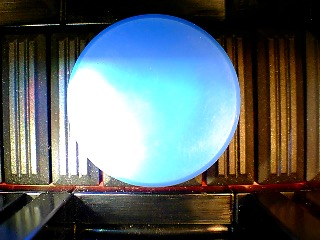BLANK: (67, 13, 240, 188)
